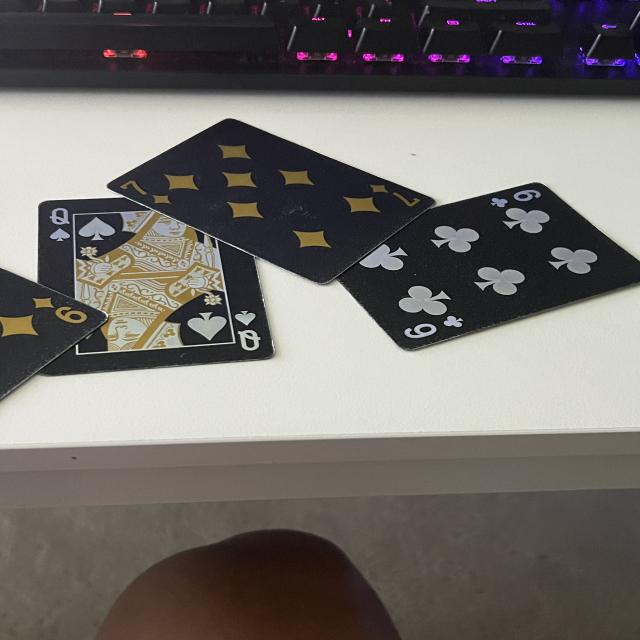6C: (399, 310, 471, 340), (487, 188, 547, 210)
7D: (120, 176, 178, 207), (367, 178, 422, 208)
9D: (27, 294, 92, 327)
QS: (223, 308, 267, 355), (42, 202, 74, 244)
